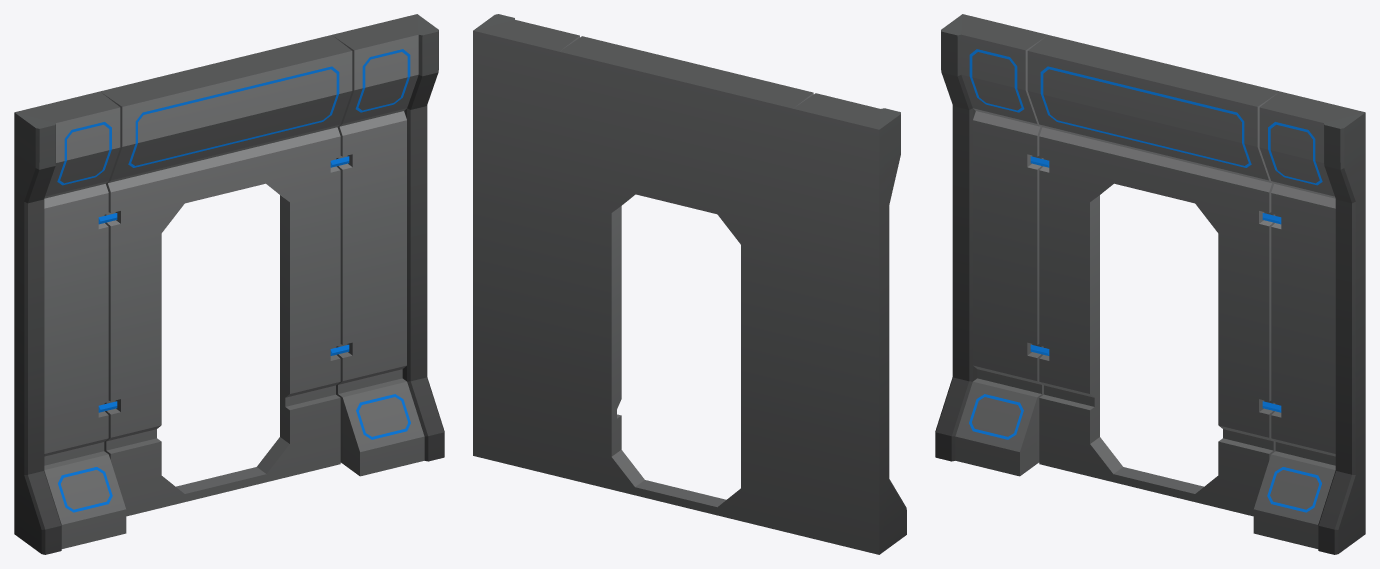
Rendered from Wall_type_B_058.glb.
3 renders of one model, left to right at view 1: azimuth 30°, elevation 25°; view 2: azimuth 150°, elevation 25°; view 3: azimuth 330°, elevation 25°, orthographic.
Visible parts, largest first — view 1: Wall_type_B_058; view 2: Wall_type_B_058; view 3: Wall_type_B_058.
Boxes of the visible parts, left/top/right/bottom form: Wall_type_B_058: left=14, top=14, right=444, bottom=554; Wall_type_B_058: left=473, top=14, right=906, bottom=554; Wall_type_B_058: left=935, top=14, right=1365, bottom=554.
Size of the model in its own units: 4 by 4 by 0.5.
2 materials, 2 textured.
